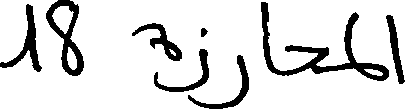1: (0, 2, 42, 72)
8: (44, 0, 82, 76)
ا: (386, 12, 402, 83), (258, 0, 273, 74)
ة: (132, 21, 183, 66)
ح: (283, 43, 327, 77)
ر: (221, 52, 250, 106)
ز: (181, 25, 210, 92)
ل: (342, 9, 367, 67)
م: (350, 60, 389, 80)
